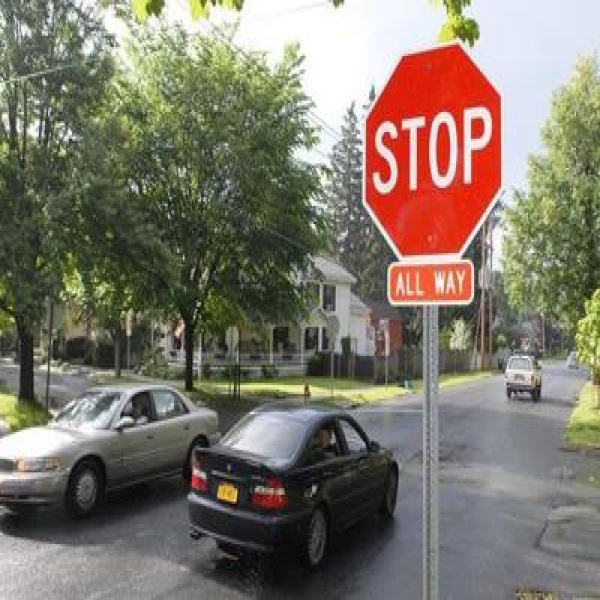stop: (364, 37, 508, 252)
